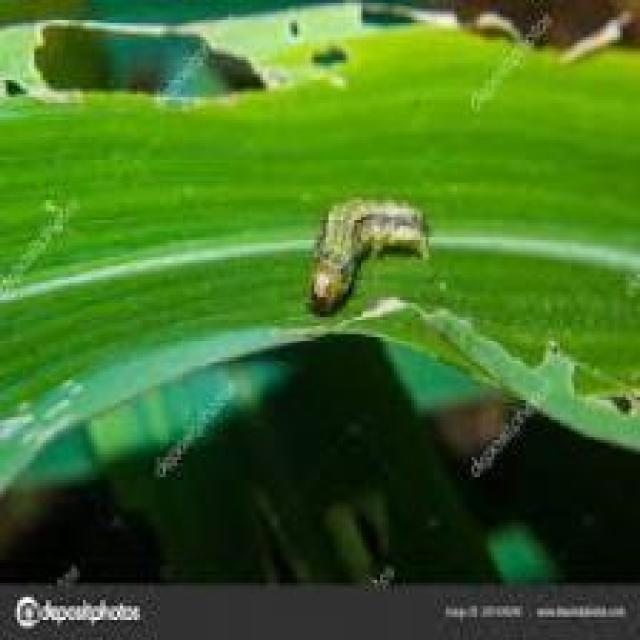Plaga: (297, 182, 431, 317)
